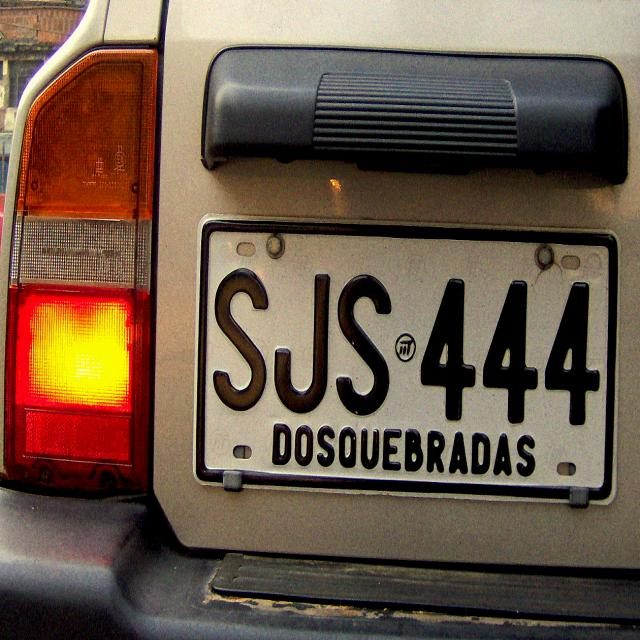particular: (189, 204, 631, 512)
